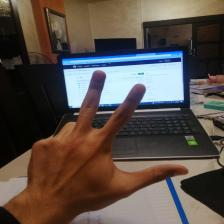three: (26, 68, 190, 211)
